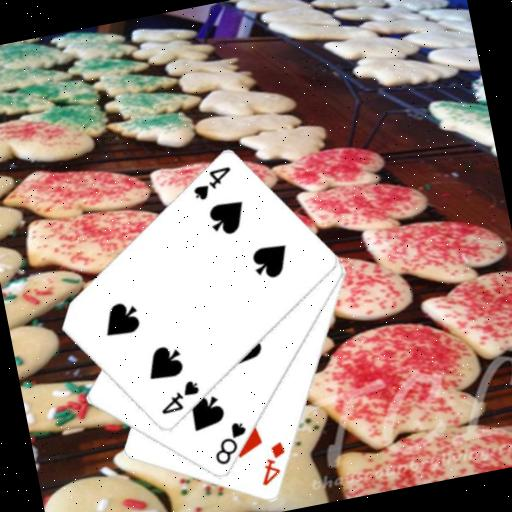4D: (252, 438, 293, 489)
4S: (153, 376, 205, 418), (186, 163, 238, 205)
8S: (206, 418, 254, 469)
